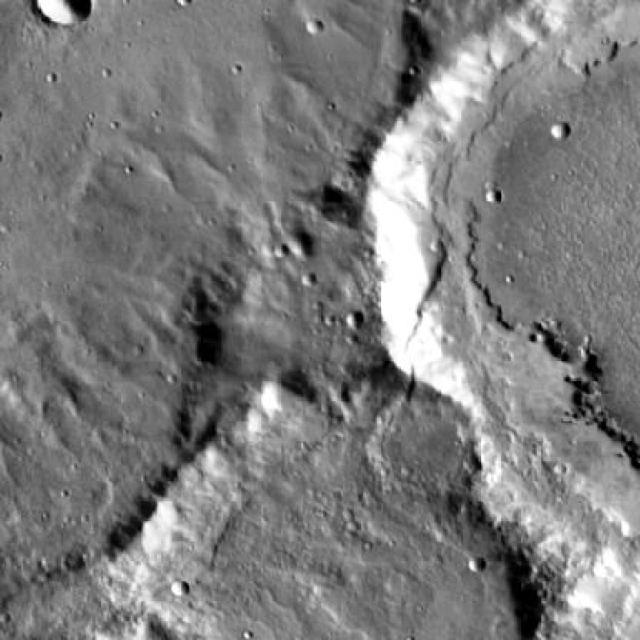crater: (381, 0, 640, 463), (107, 438, 548, 640), (364, 408, 479, 512), (32, 0, 85, 32), (451, 208, 469, 226), (172, 581, 190, 596)
